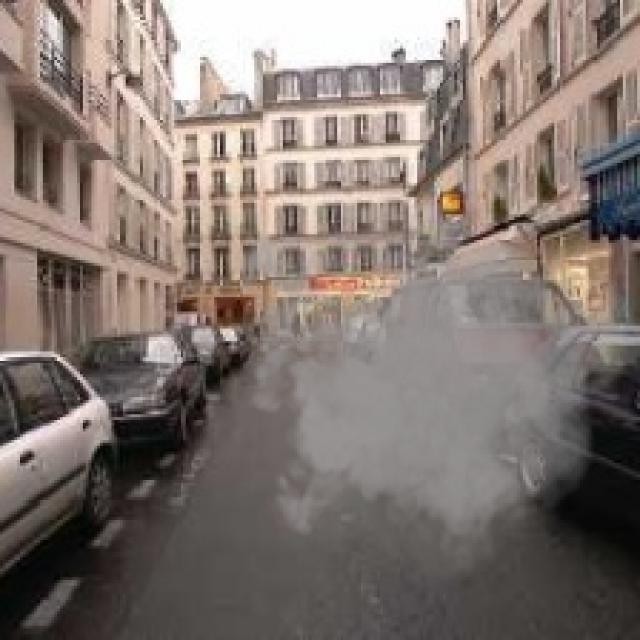smoke: (226, 172, 637, 597)
